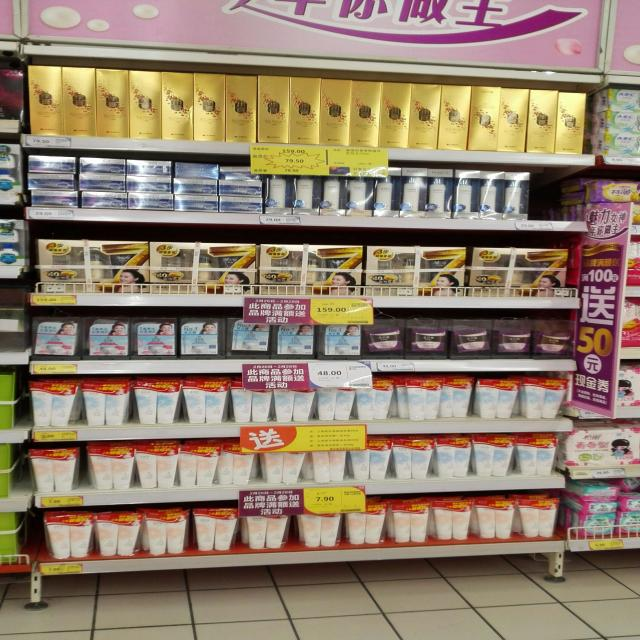void: (530, 170, 564, 229), (565, 171, 592, 230)
